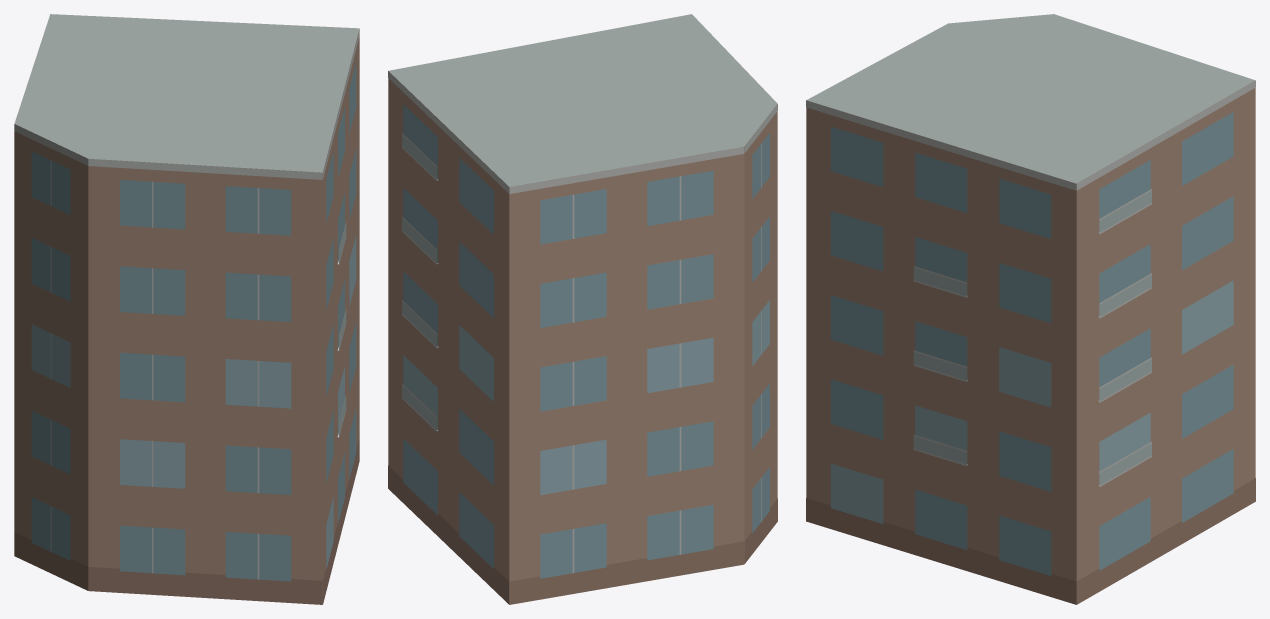
The model's file is survey-upis-32956623.glb.
3 renders of one model, left to right at view 1: azimuth 30°, elevation 25°; view 2: azimuth 150°, elevation 25°; view 3: azimuth 270°, elevation 25°, orthographic. The views are drawn at different scales.
Parts seen in each view (by area): view 1: survey-upis-32956623.tmp; view 2: survey-upis-32956623.tmp; view 3: survey-upis-32956623.tmp.
Part boxes in pixels (x1,y1,x2,y2): survey-upis-32956623.tmp: [14, 14, 359, 604]; survey-upis-32956623.tmp: [388, 14, 777, 604]; survey-upis-32956623.tmp: [806, 14, 1255, 604].
Size of the model in its own units: 12.49 by 14.45 by 13.99.
